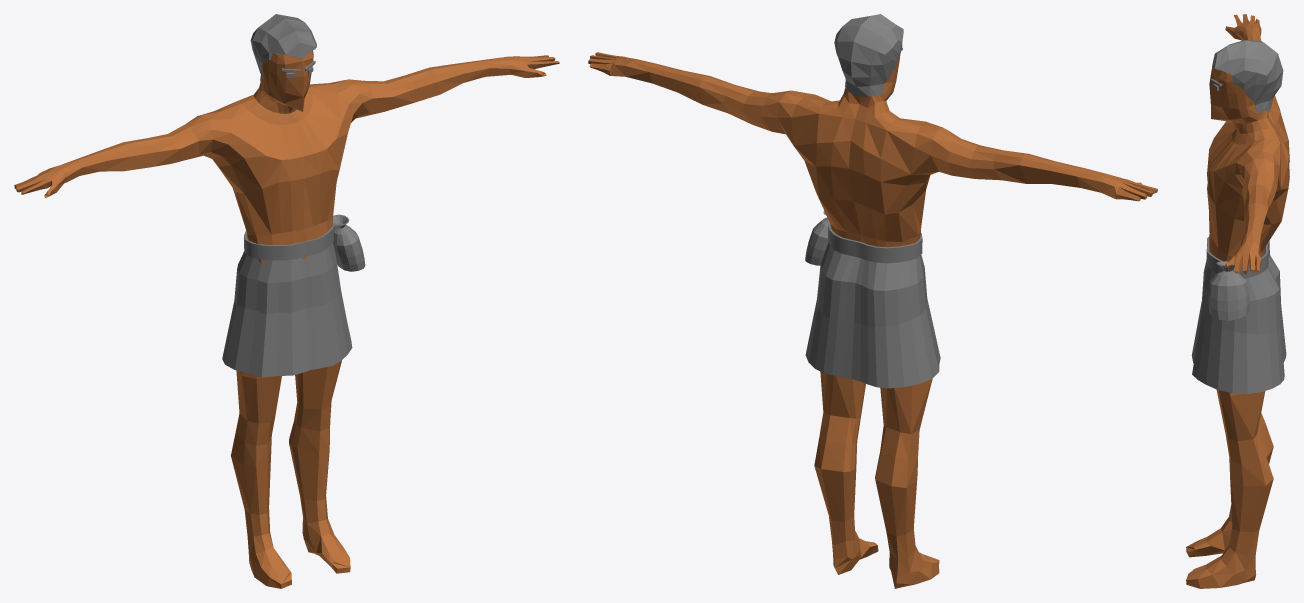
The model's file is SM_citizen_M_egypt.fbx.
The picture shows the model from 3 angles, left to right: view 1: azimuth 30°, elevation 25°; view 2: azimuth 150°, elevation 25°; view 3: azimuth 270°, elevation 25°; orthographic projection. The views are drawn at different scales.
Visible parts, largest first — view 1: Object1284359; view 2: Object1284359; view 3: Object1284359.
Boxes of the visible parts, box(x1,y1,x2,y2) form: Object1284359: box(14, 14, 559, 588); Object1284359: box(588, 14, 1157, 588); Object1284359: box(1186, 14, 1289, 588).
Bounding box in the file's own units: 80.91 × 13.82 × 77.67.
